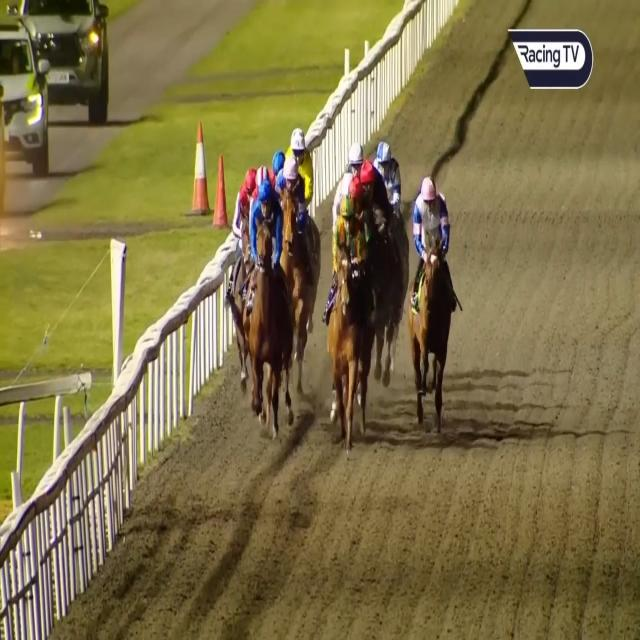horses-racing: (323, 191, 373, 434), (412, 172, 449, 419), (251, 176, 282, 423), (279, 152, 304, 347), (240, 162, 260, 343), (281, 124, 325, 194), (361, 156, 389, 247), (374, 140, 407, 212), (337, 170, 370, 213), (265, 142, 292, 190), (347, 137, 371, 189), (253, 159, 270, 193)
